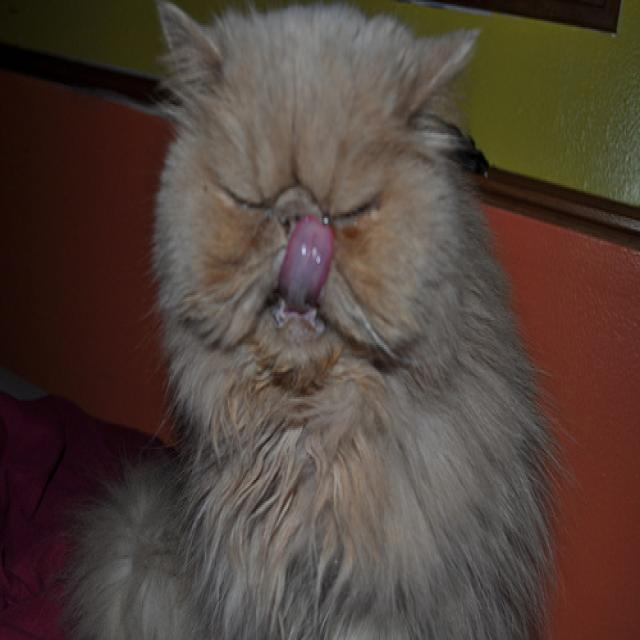Persian: (147, 0, 490, 416)
